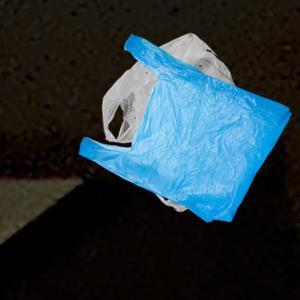plastic_bag: (78, 31, 292, 227)
